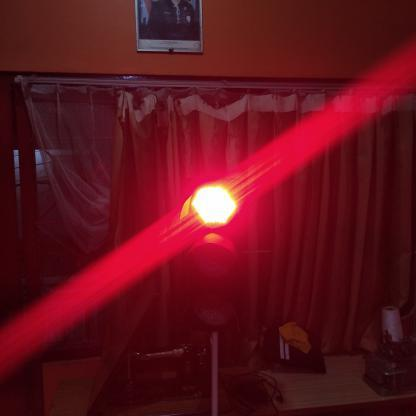red: (182, 171, 244, 332)
